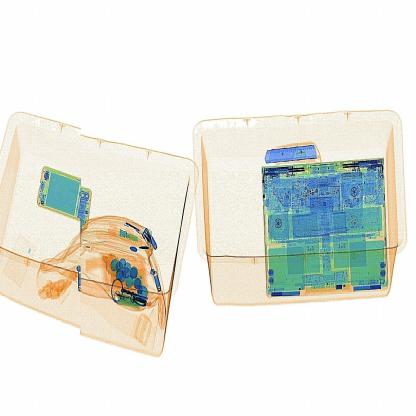pliers: (264, 133, 336, 172)
